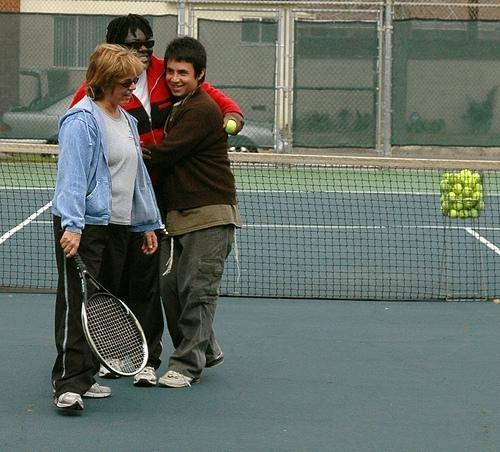car: (0, 94, 274, 151)
